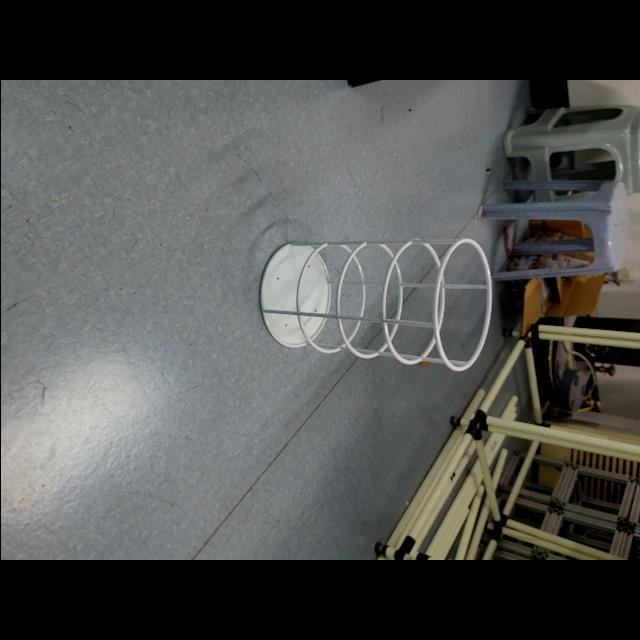S: (254, 234, 502, 376)
